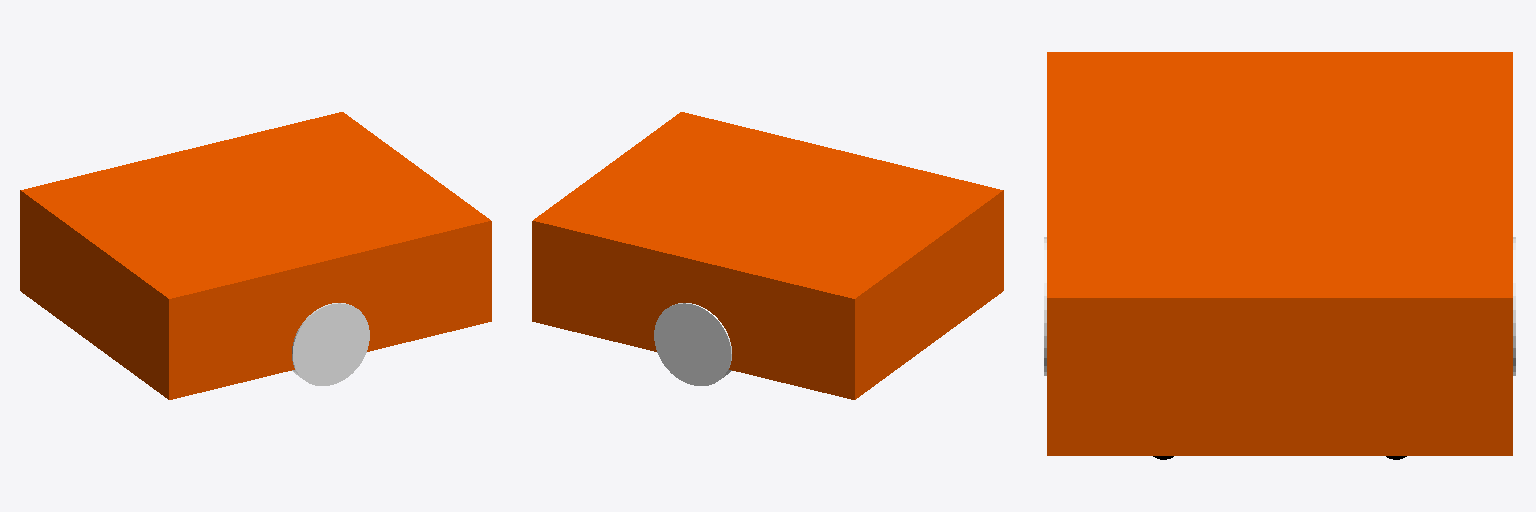
URDF robot description (hgrobot):
<?xml version="1.0" ?>
<robot name="hgrobot">

    <link name="base_link">
        <visual>
            <origin xyz="0 0 0" rpy="0 0 0"/>
            <geometry>
                <!-- <cylinder length="0.16" radius="0.20"/> -->
                <box size="0.5 0.4 0.15"/>
            </geometry>
            <material name="yellow">
                <color rgba="1 0.4 0 1"/>
            </material>
        </visual>
    </link>

    <joint name="left_wheel_joint" type="continuous">
        <origin xyz="0 0.19 -0.05" rpy="0 0 0"/>
        <parent link="base_link"/>
        <child link="left_wheel_link"/>
        <axis xyz="0 1 0"/>
    </joint>

    <link name="left_wheel_link">
        <visual>
            <origin xyz="0 0 0" rpy="1.5707 0 0" />
            <geometry>
                <cylinder radius="0.06" length = "0.025"/>
            </geometry>
            <material name="white">
                <color rgba="1 1 1 0.9"/>
            </material>
        </visual>
    </link>

    <joint name="right_wheel_joint" type="continuous">
        <origin xyz="0 -0.19 -0.05" rpy="0 0 0"/>
        <parent link="base_link"/>
        <child link="right_wheel_link"/>
        <axis xyz="0 1 0"/>
    </joint>

    <link name="right_wheel_link">
        <visual>
            <origin xyz="0 0 0" rpy="1.5707 0 0" />
            <geometry>
                <cylinder radius="0.06" length = "0.025"/>
            </geometry>
            <material name="white">
                <color rgba="1 1 1 0.9"/>
            </material>
        </visual>
    </link>

    <joint name="frontl_caster_joint" type="continuous">
        <origin xyz="0.18 0.10 -0.095" rpy="0 0 0"/>
        <parent link="base_link"/>
        <child link="frontl_caster_link"/>
        <axis xyz="0 1 0"/>
    </joint>

    <link name="frontl_caster_link">
        <visual>
            <origin xyz="0 0 0" rpy="0 0 0"/>
            <geometry>
                <sphere radius="0.015" />
            </geometry>
            <material name="black">
                <color rgba="0 0 0 0.95"/>
            </material>
        </visual>
    </link>

    <joint name="frontr_caster_joint" type="continuous">
        <origin xyz="0.18 -0.10 -0.095" rpy="0 0 0"/>
        <parent link="base_link"/>
        <child link="frontr_caster_link"/>
        <axis xyz="0 1 0"/>
    </joint>

    <link name="frontr_caster_link">
        <visual>
            <origin xyz="0 0 0" rpy="0 0 0"/>
            <geometry>
                <sphere radius="0.015" />
            </geometry>
            <material name="black">
                <color rgba="0 0 0 0.95"/>
            </material>
        </visual>
    </link>

    <joint name="backl_caster_joint" type="continuous">
        <origin xyz="-0.18 0.10 -0.095" rpy="0 0 0"/>
        <parent link="base_link"/>
        <child link="backl_caster_link"/>
        <axis xyz="0 1 0"/>
    </joint>

    <link name="backl_caster_link">
        <visual>
            <origin xyz="0 0 0" rpy="0 0 0"/>
            <geometry>
                <sphere radius="0.015" />
            </geometry>
            <material name="black">
                <color rgba="0 0 0 0.95"/>
            </material>
        </visual>
    </link>
    <joint name="backr_caster_joint" type="continuous">
        <origin xyz="-0.18 -0.10 -0.095" rpy="0 0 0"/>
        <parent link="base_link"/>
        <child link="backr_caster_link"/>
        <axis xyz="0 1 0"/>
    </joint>

    <link name="backr_caster_link">
        <visual>
            <origin xyz="0 0 0" rpy="0 0 0"/>
            <geometry>
                <sphere radius="0.015" />
            </geometry>
            <material name="black">
                <color rgba="0 0 0 0.95"/>
            </material>
        </visual>
    </link>

</robot>

--- What the picture shows (computed from the rendered views, not written in the file) ---
The picture shows the robot from 3 angles, left to right: view 1: azimuth 30°, elevation 25°; view 2: azimuth 150°, elevation 25°; view 3: azimuth 270°, elevation 25°; orthographic projection.
Robot: hgrobot — 7 links, 6 joints (6 continuous); root link base_link; default pose: all joints at 0.
Links seen in each view (by area): view 1: base_link, right_wheel_link; view 2: base_link, left_wheel_link; view 3: base_link.
Boxes of the visible links, x1=… form: base_link: x1=20, y1=112, x2=491, y2=399; right_wheel_link: x1=292, y1=303, x2=369, y2=385; base_link: x1=532, y1=112, x2=1003, y2=399; left_wheel_link: x1=654, y1=303, x2=731, y2=385; base_link: x1=1047, y1=52, x2=1512, y2=455.
Size in the robot's own frame: 0.5 by 0.405 by 0.185 metres.
Geometry: primitives only (box / cylinder / sphere), no mesh files.
